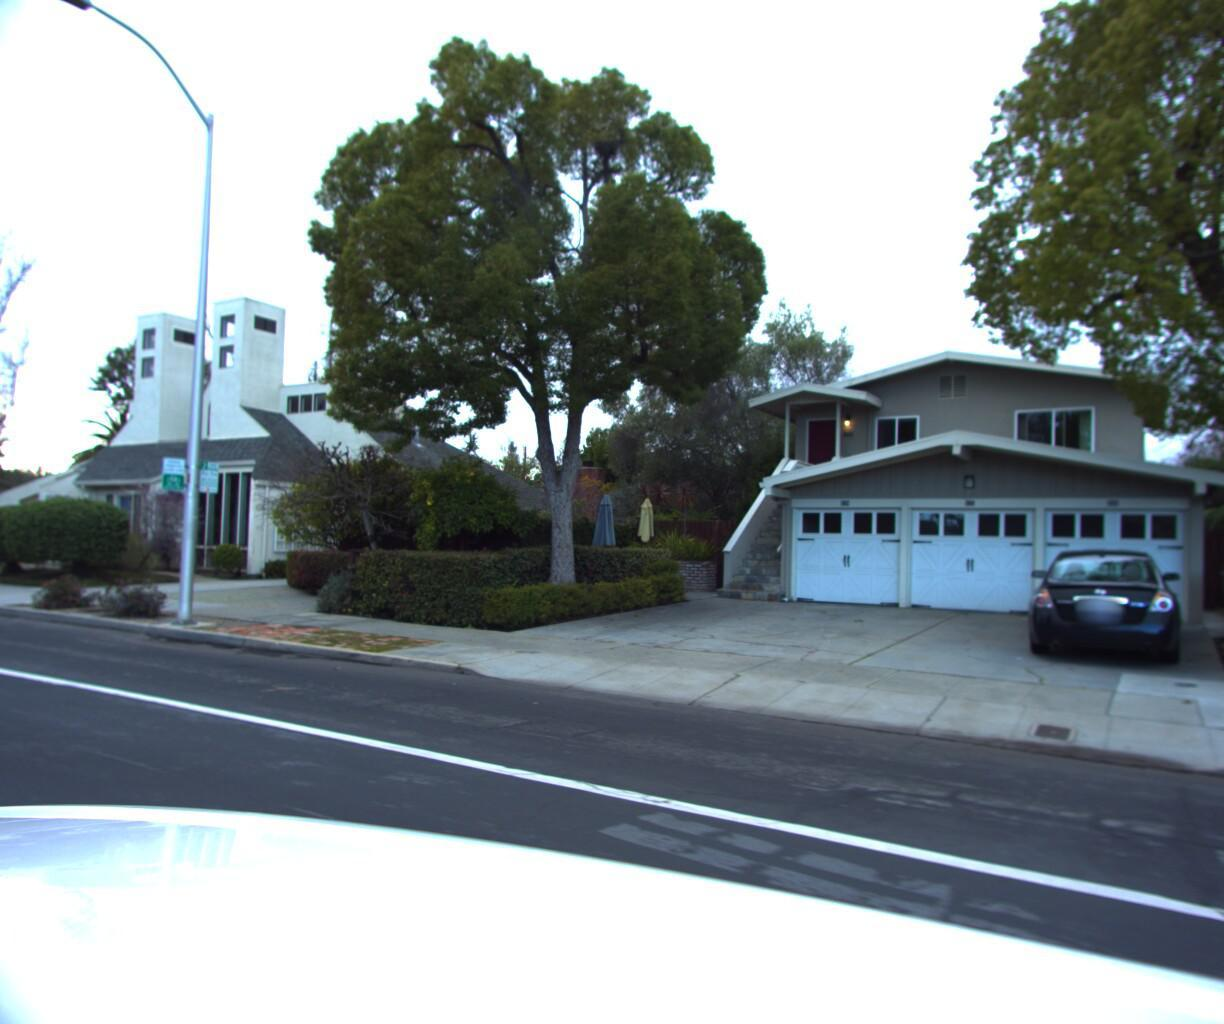car: (1017, 537, 1201, 671)
